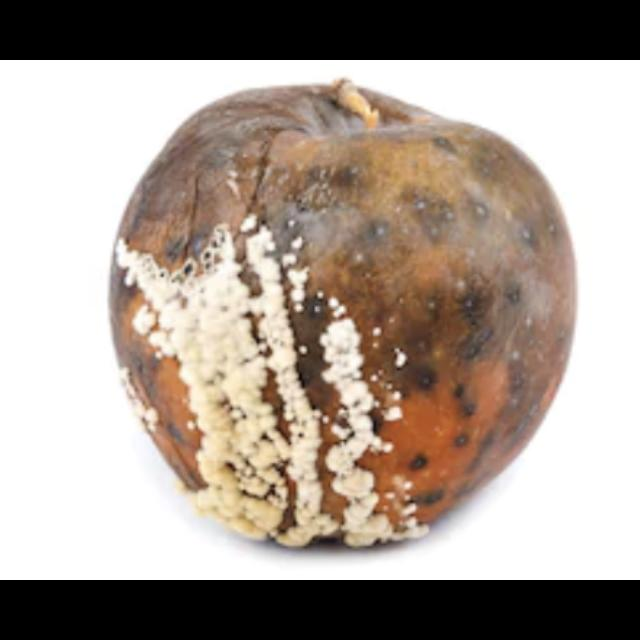Apel Tidak Segar: (102, 80, 584, 557)
